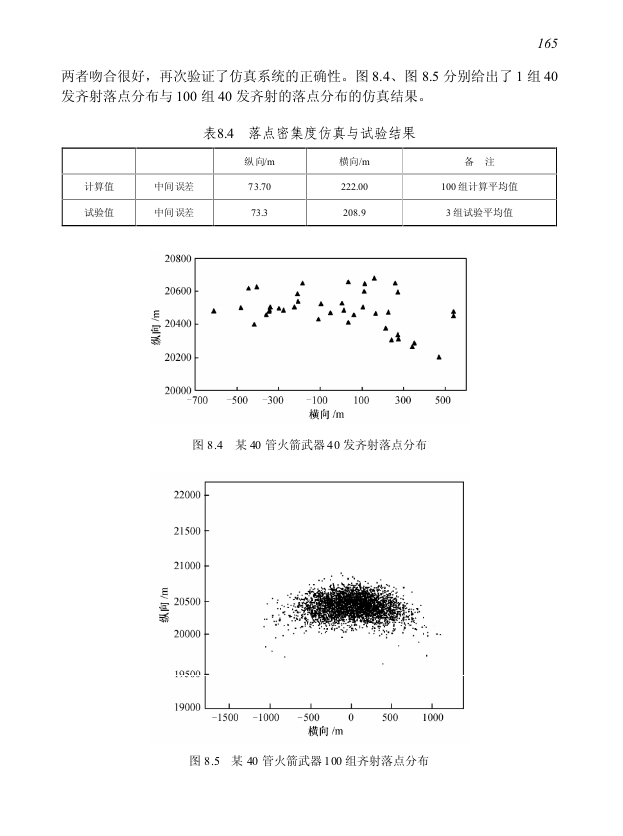table: (61, 147, 556, 227)
